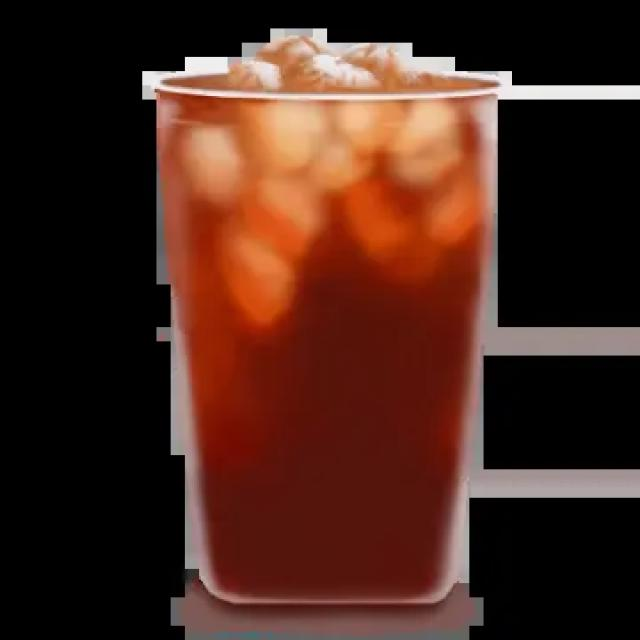Gelas: (144, 24, 520, 622)
